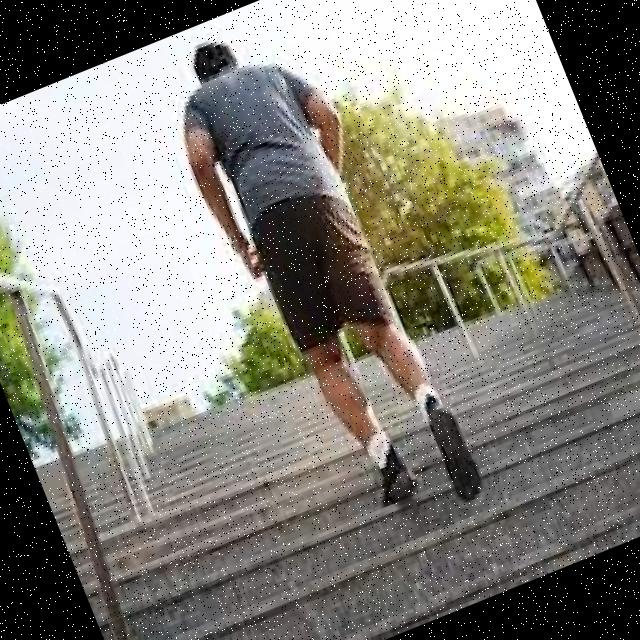Person: (148, 6, 492, 551)
